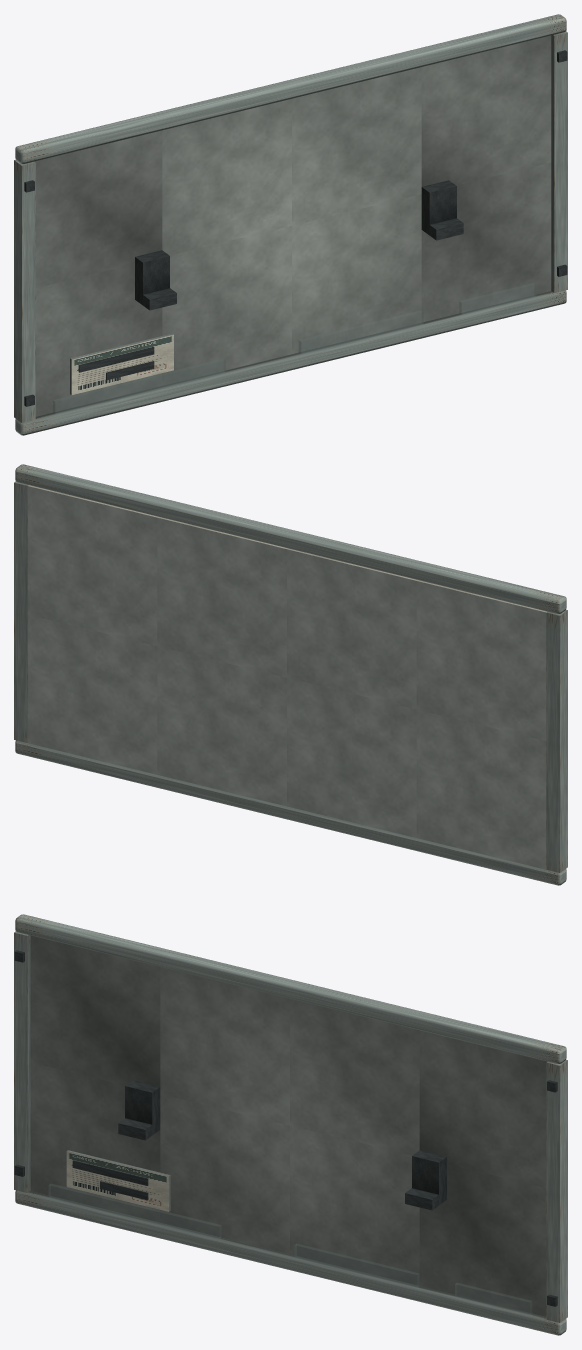
Rendered from weapon_rack_cold.glb.
3 renders of one model, top to bottom at view 1: azimuth 30°, elevation 25°; view 2: azimuth 150°, elevation 25°; view 3: azimuth 330°, elevation 25°, orthographic.
Visible parts, largest first — view 1: WeaponRackCold; view 2: WeaponRackCold; view 3: WeaponRackCold.
Boxes of the visible parts, x1,y1,x2,y2 form: WeaponRackCold: (14, 14, 567, 435); WeaponRackCold: (14, 464, 567, 885); WeaponRackCold: (14, 914, 567, 1335).
Bounding box in the file's own units: 1.6 × 0.8 × 0.1.
Materials: 2 (1 with a texture image).
